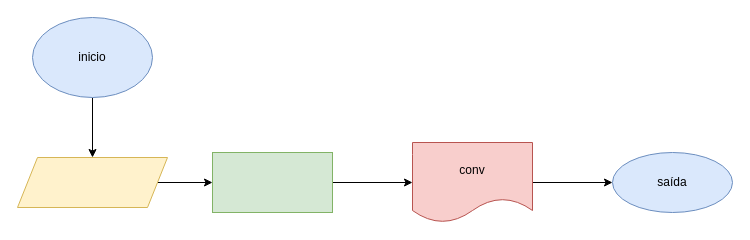
Image size: 750x240. Some labels were removed from this diagram. Here are the shapes that lost their labels. From the top down, the box of each, then its label:
(16, 156, 168, 208): valordolar, valorreais
(212, 152, 332, 212): conv <- valordolar*valorreal
